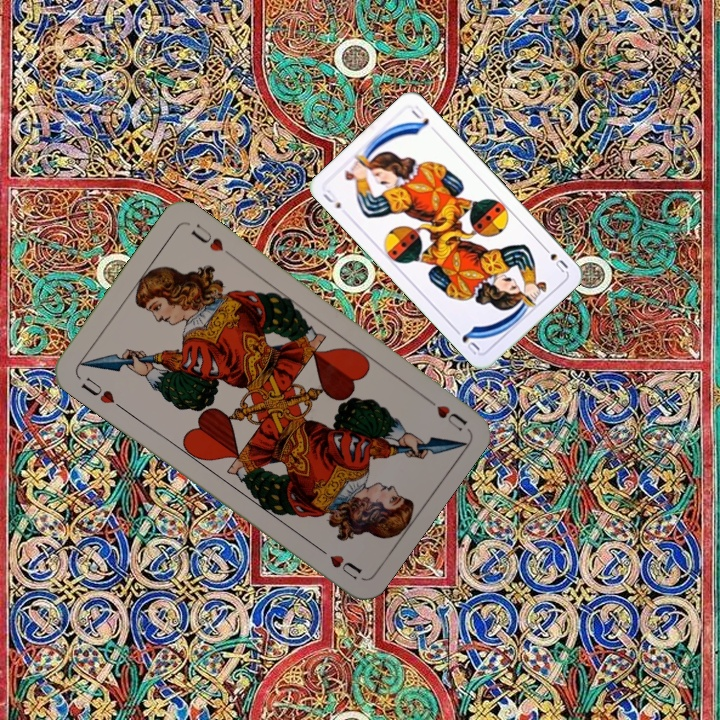HU: (418, 390, 470, 434), (76, 372, 126, 412)
SU: (538, 241, 571, 275), (319, 186, 344, 211)
